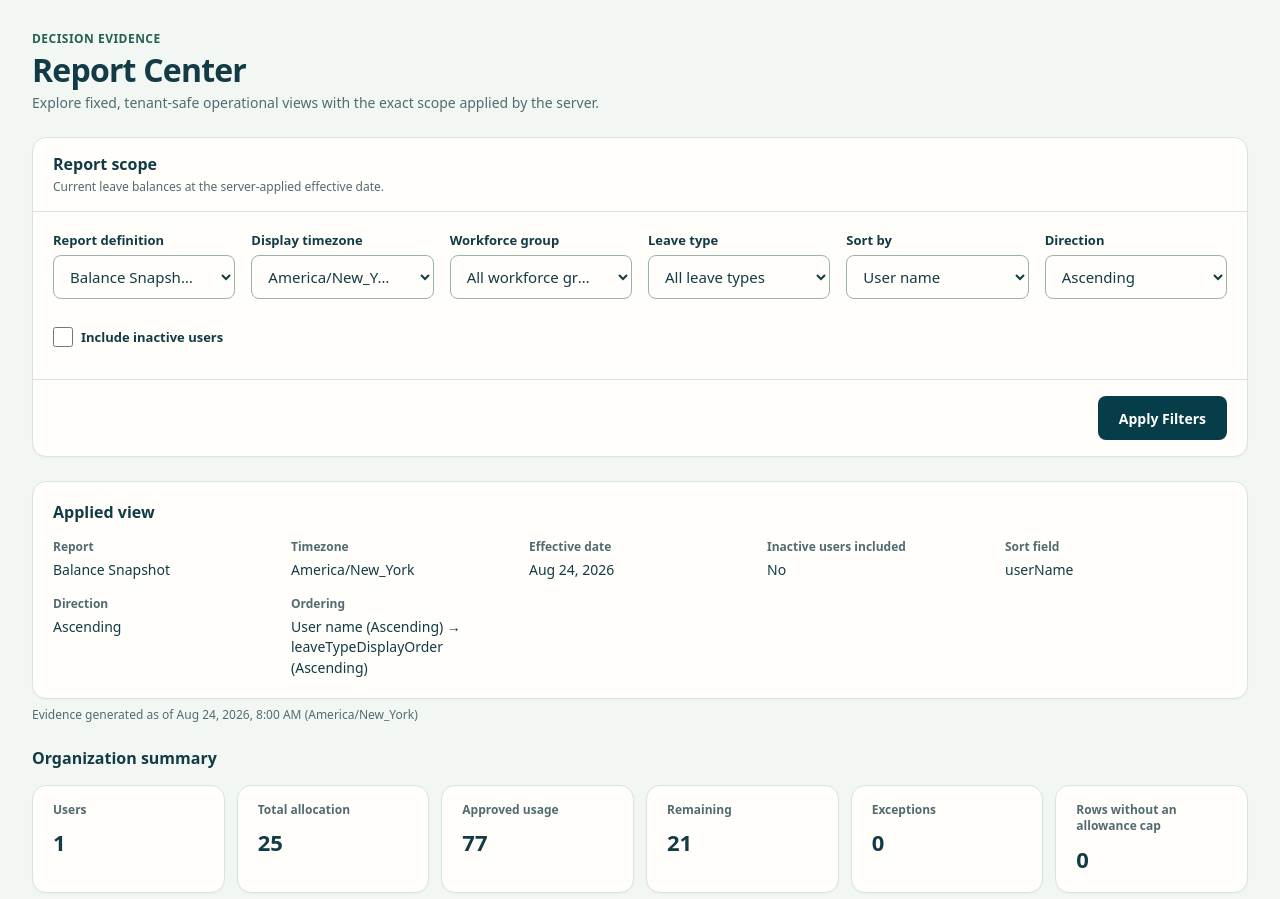
Test: ReportCenterPage › [P0] renders LEAVE_USAGE with its own columns, labels, and values
Step 1. Select "Leave Usage" in the dropdown labelled "Report definition" → (144,277), box [53, 255, 235, 299]
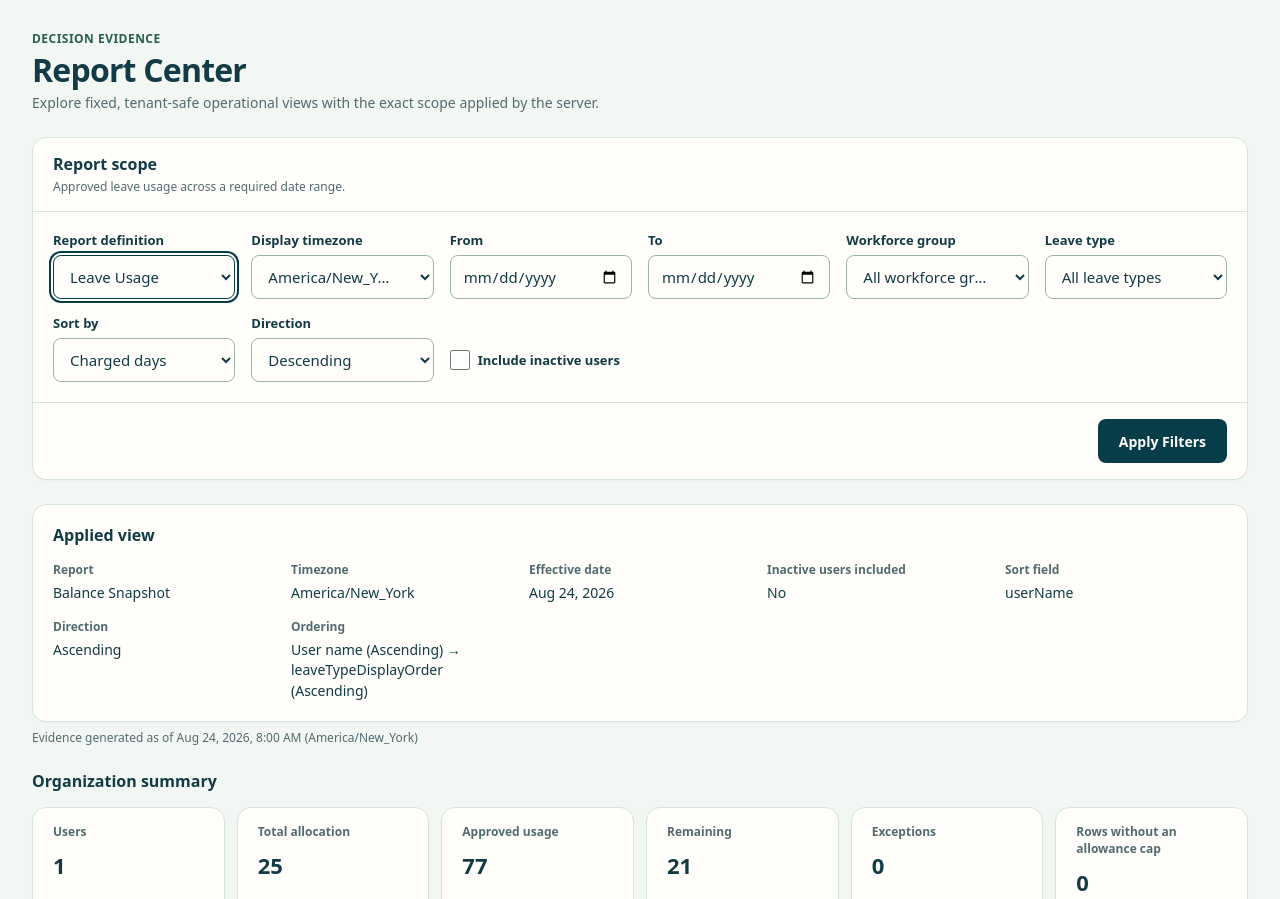
Step 2. Type "2026-08-01" into the date field labelled "From" → (541,277), box [450, 255, 632, 299]
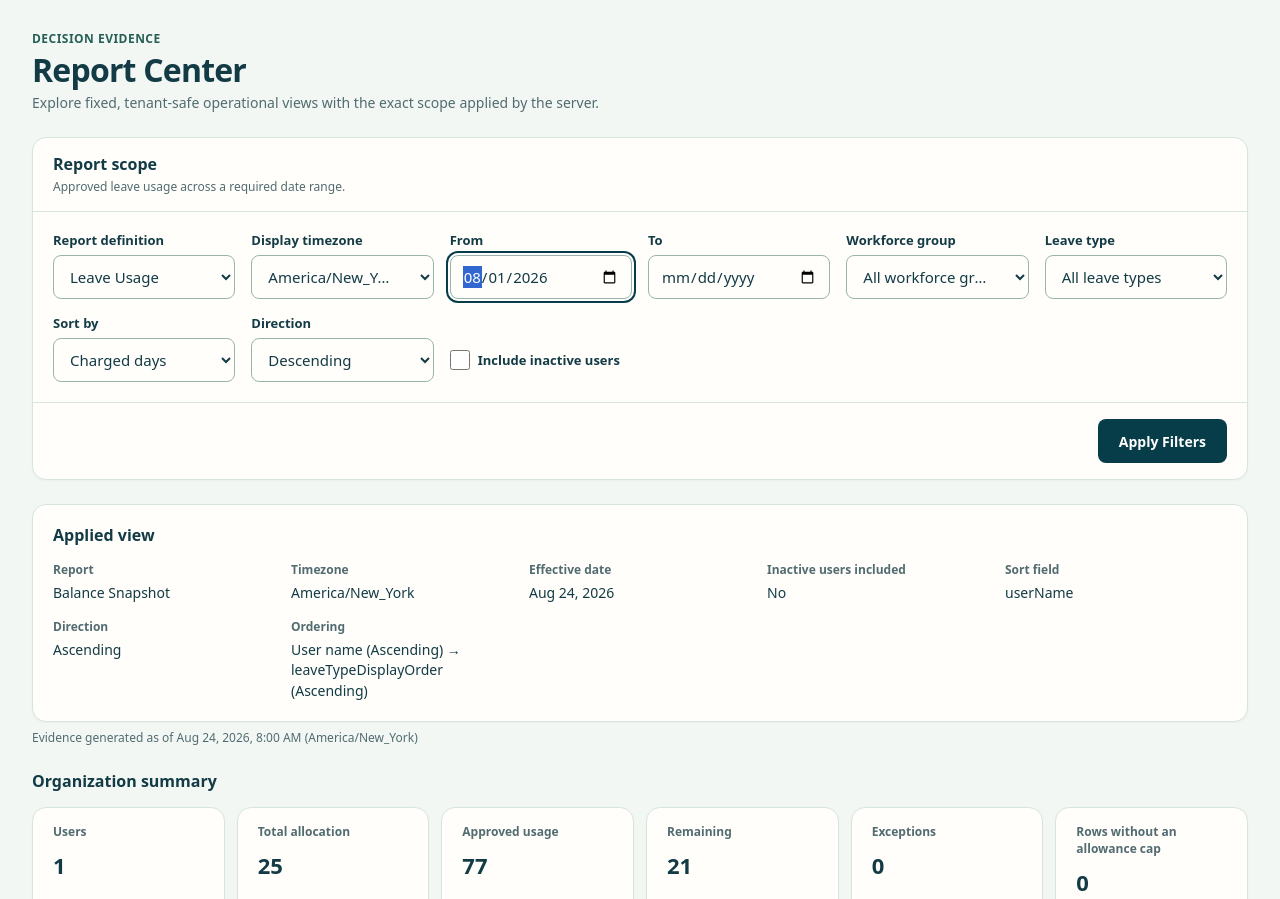
Step 3. Type "2026-08-24" into the date field labelled "To" → (739,277), box [648, 255, 830, 299]
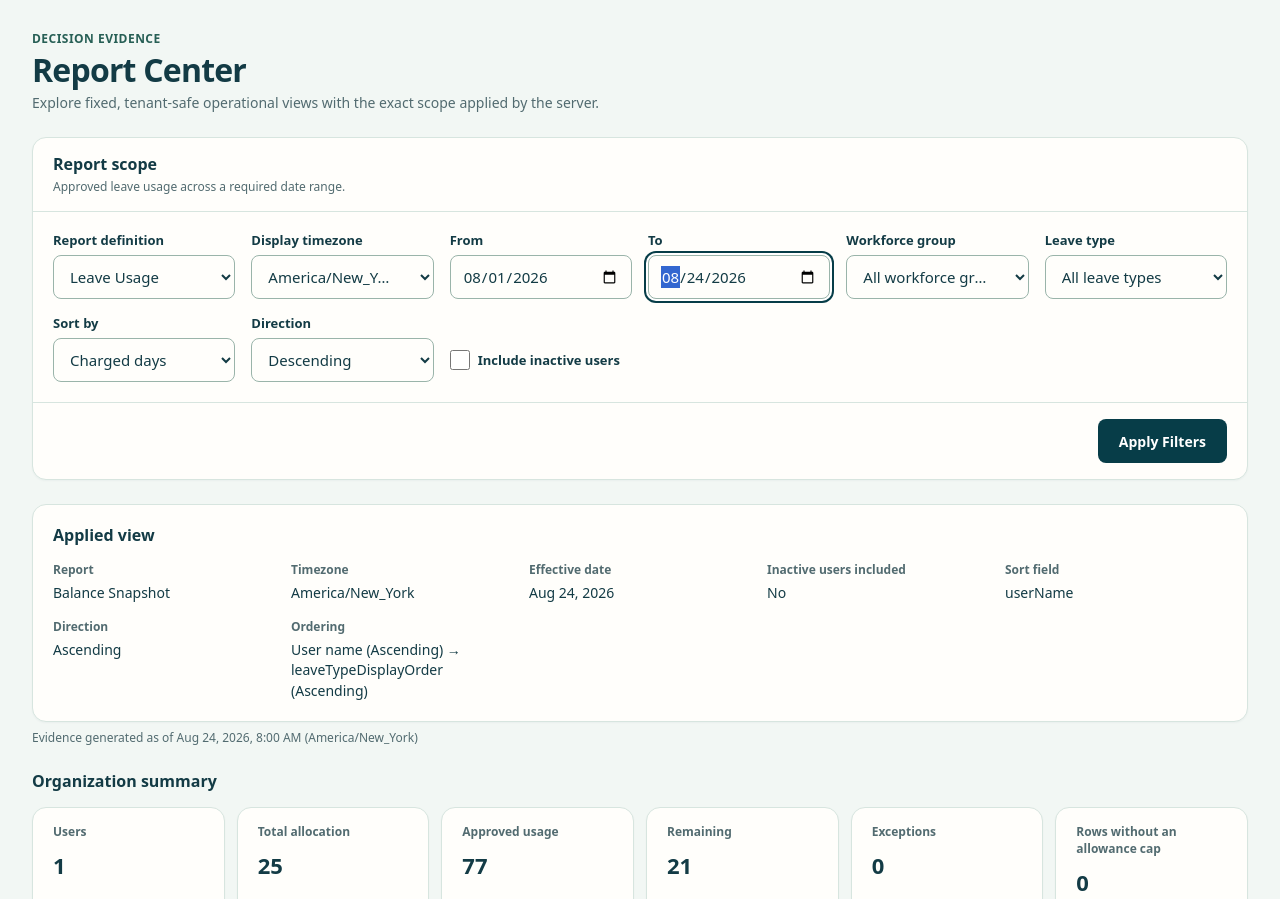
Step 4. Click the button "Apply Filters" → (1162,441), box [1098, 419, 1227, 463]
(page scrolled)
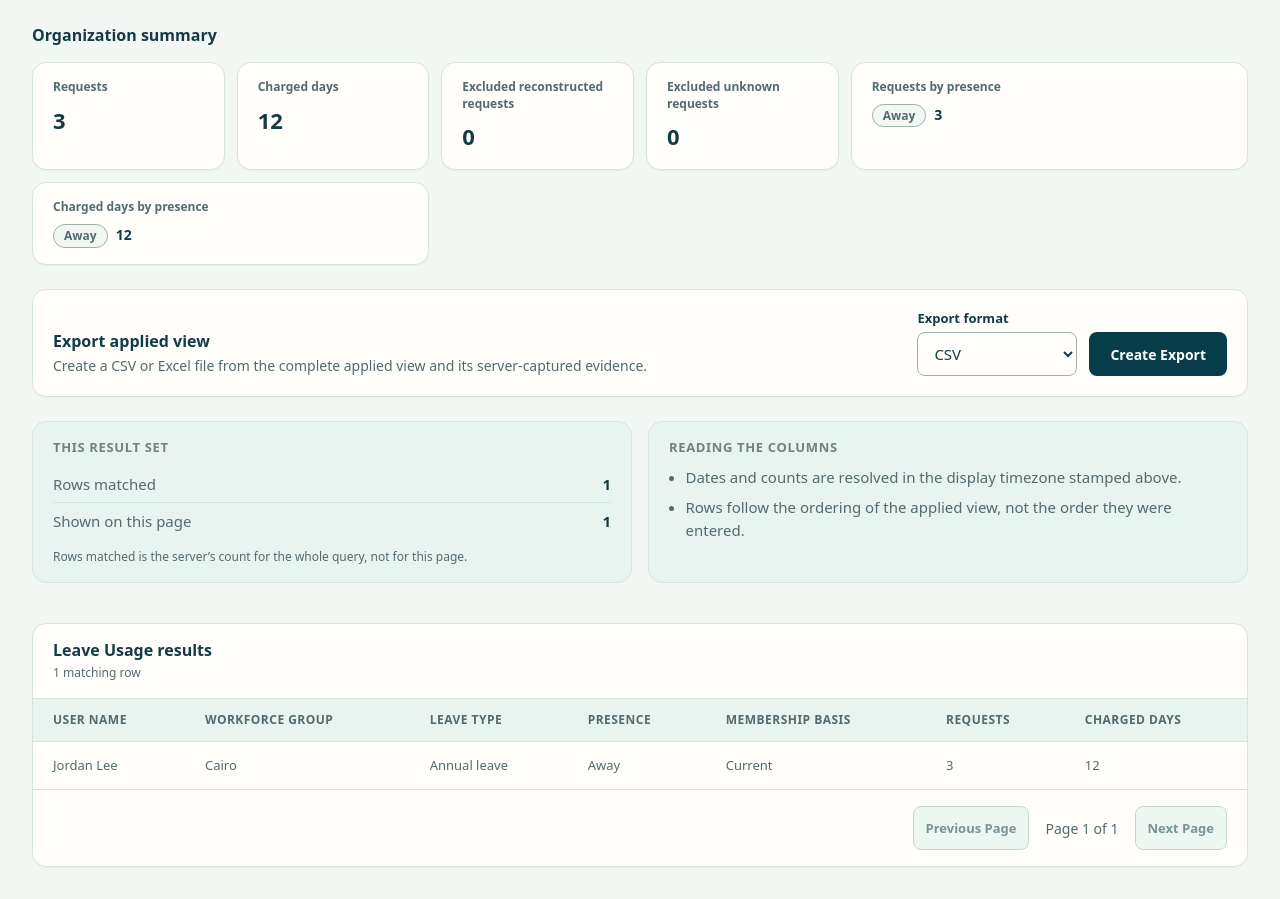
Expected: the cell does not show ""
Result: the column heading "Charged days" is shown at [1065, 698, 1247, 741]
Result: the row with test id "report-row-0" shows "12" at [1085, 756, 1100, 774]
